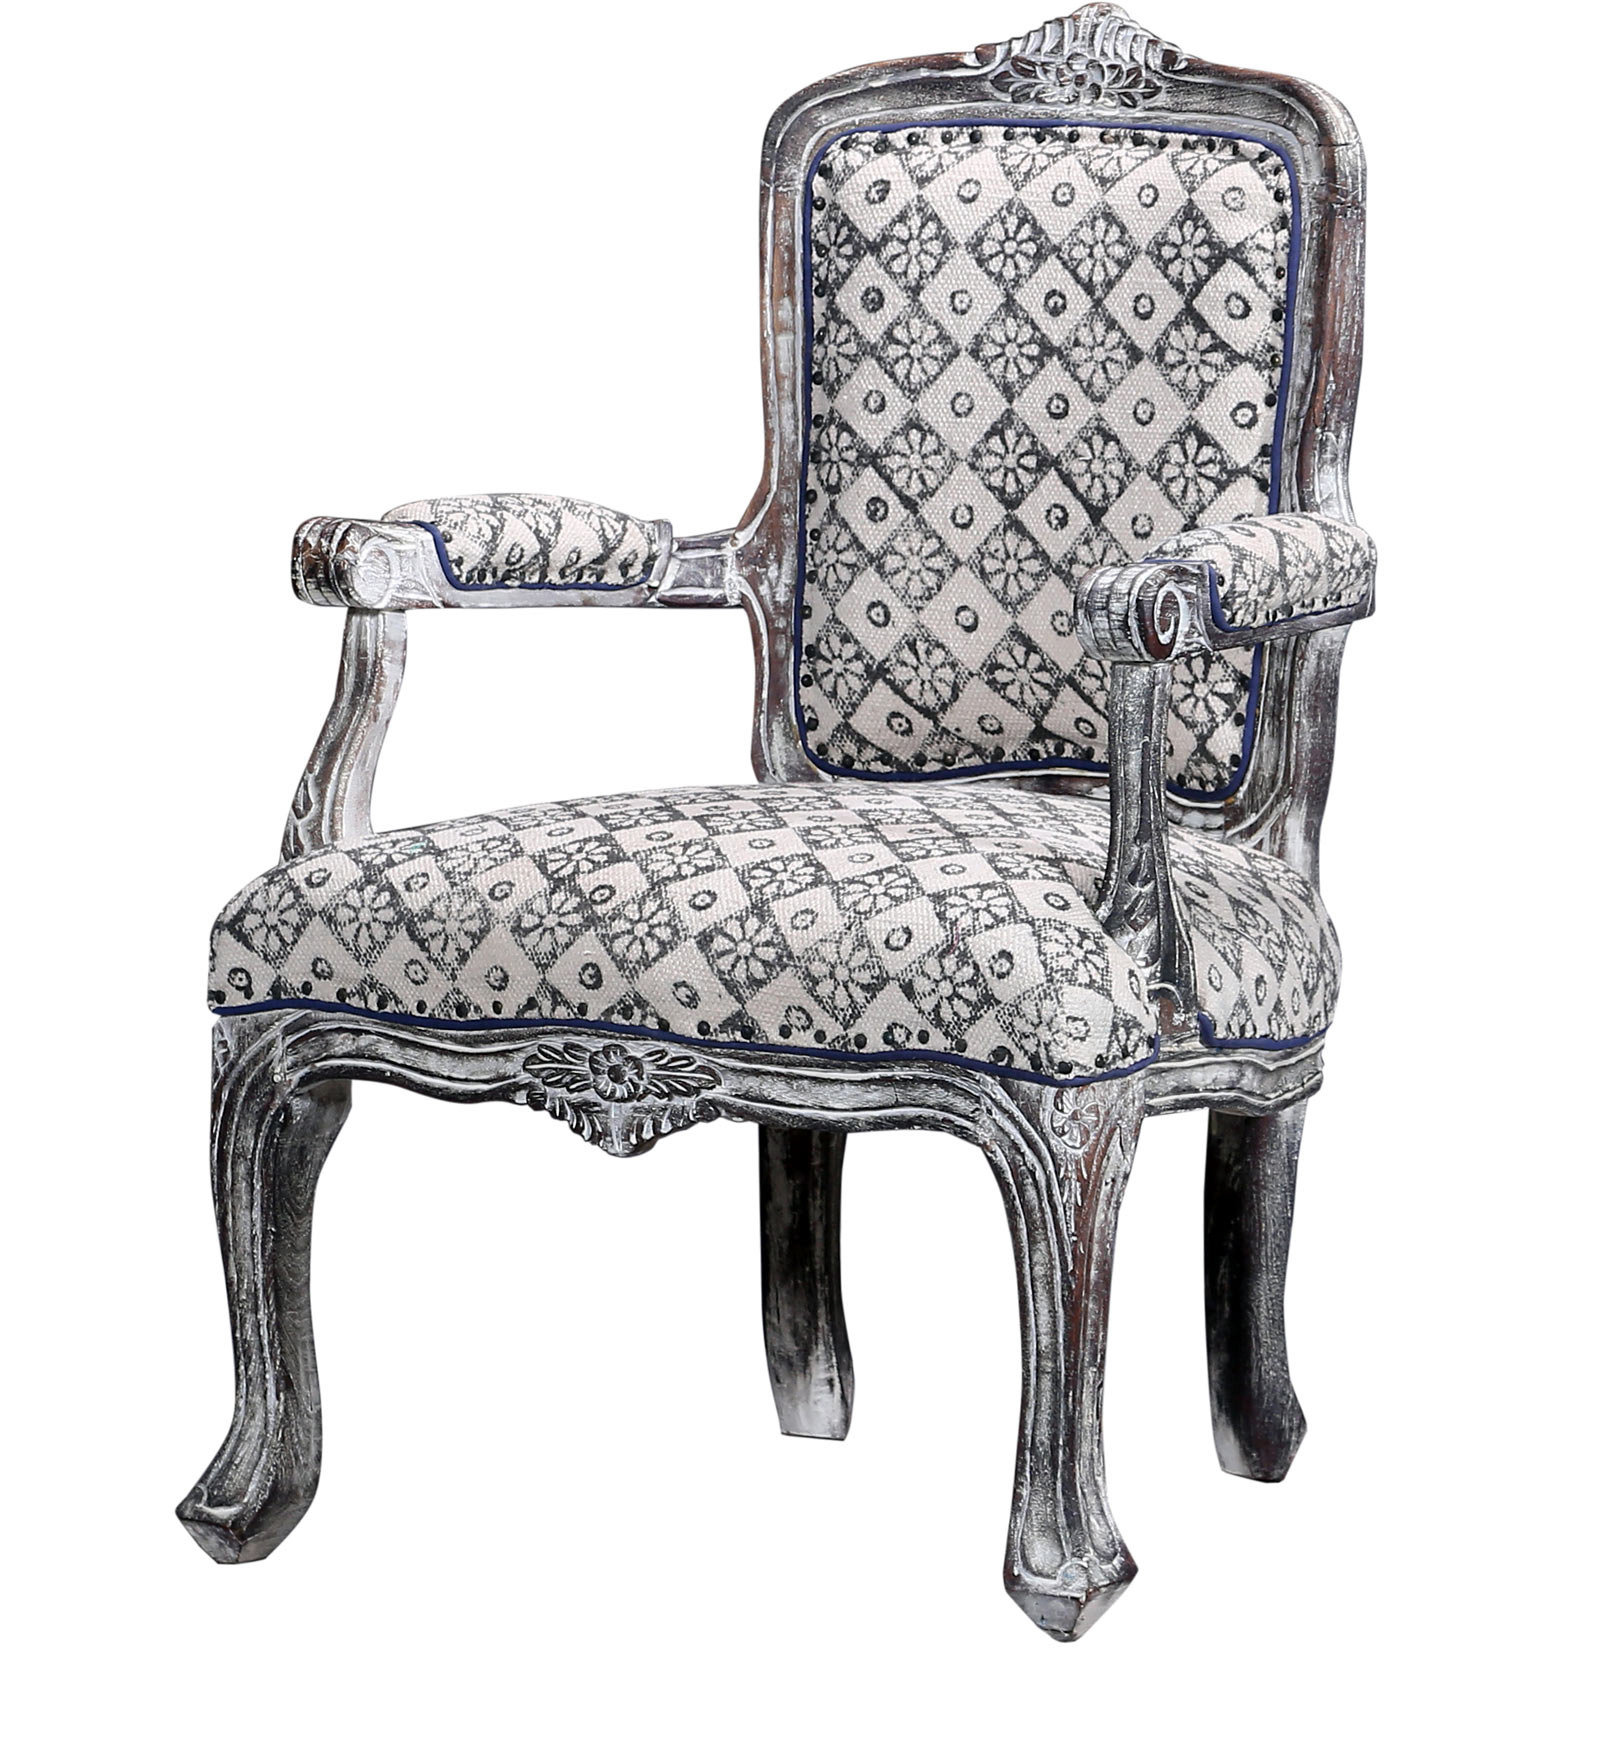Elton Arm Chair in Grey Colour by Bohemiana: (162, 2, 1393, 1689)
